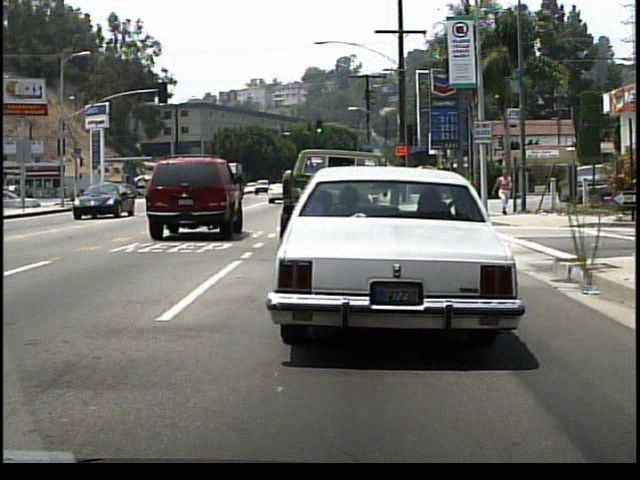person: (498, 169, 515, 218)
